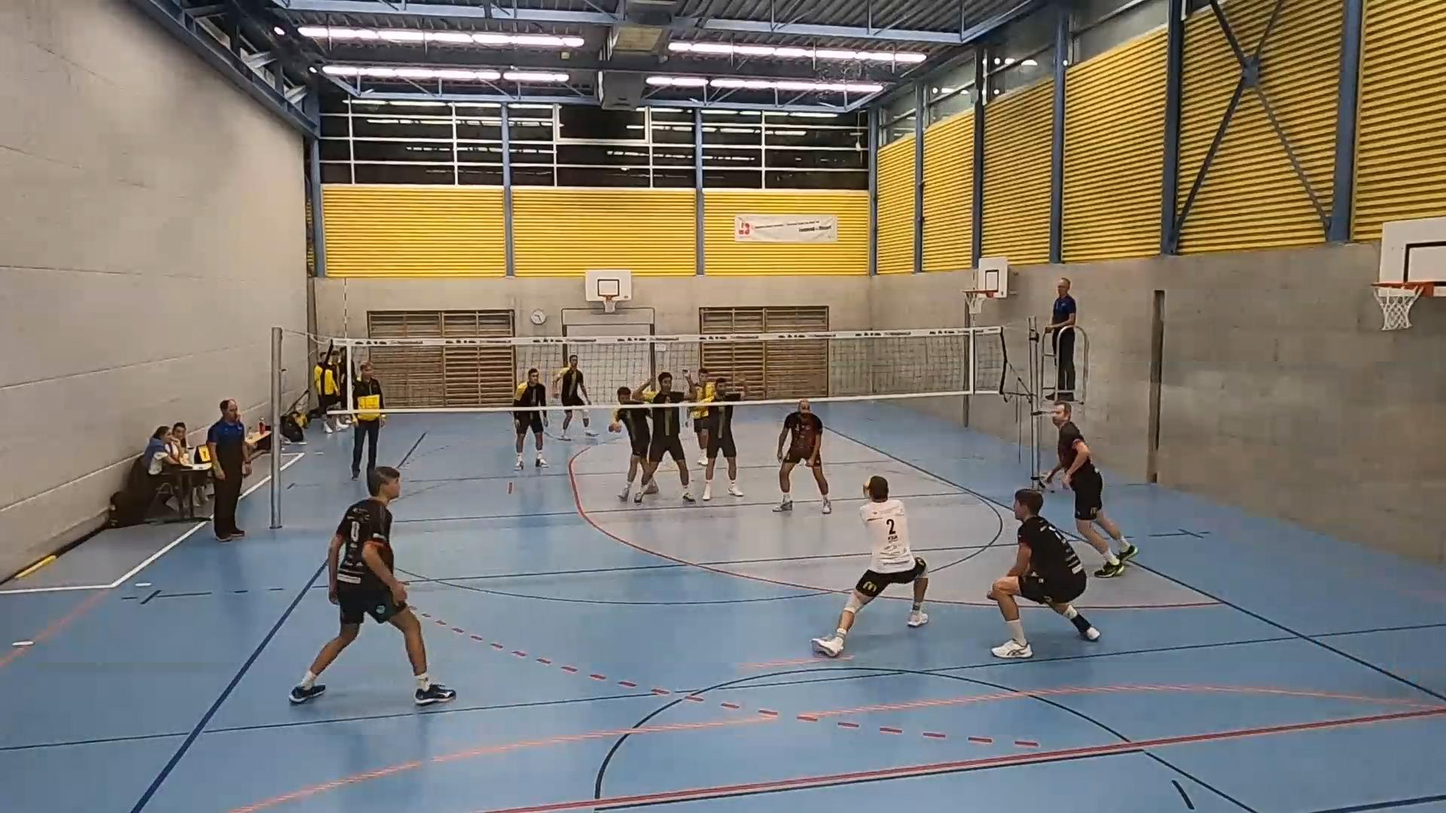ricezione: (814, 476, 929, 663)
